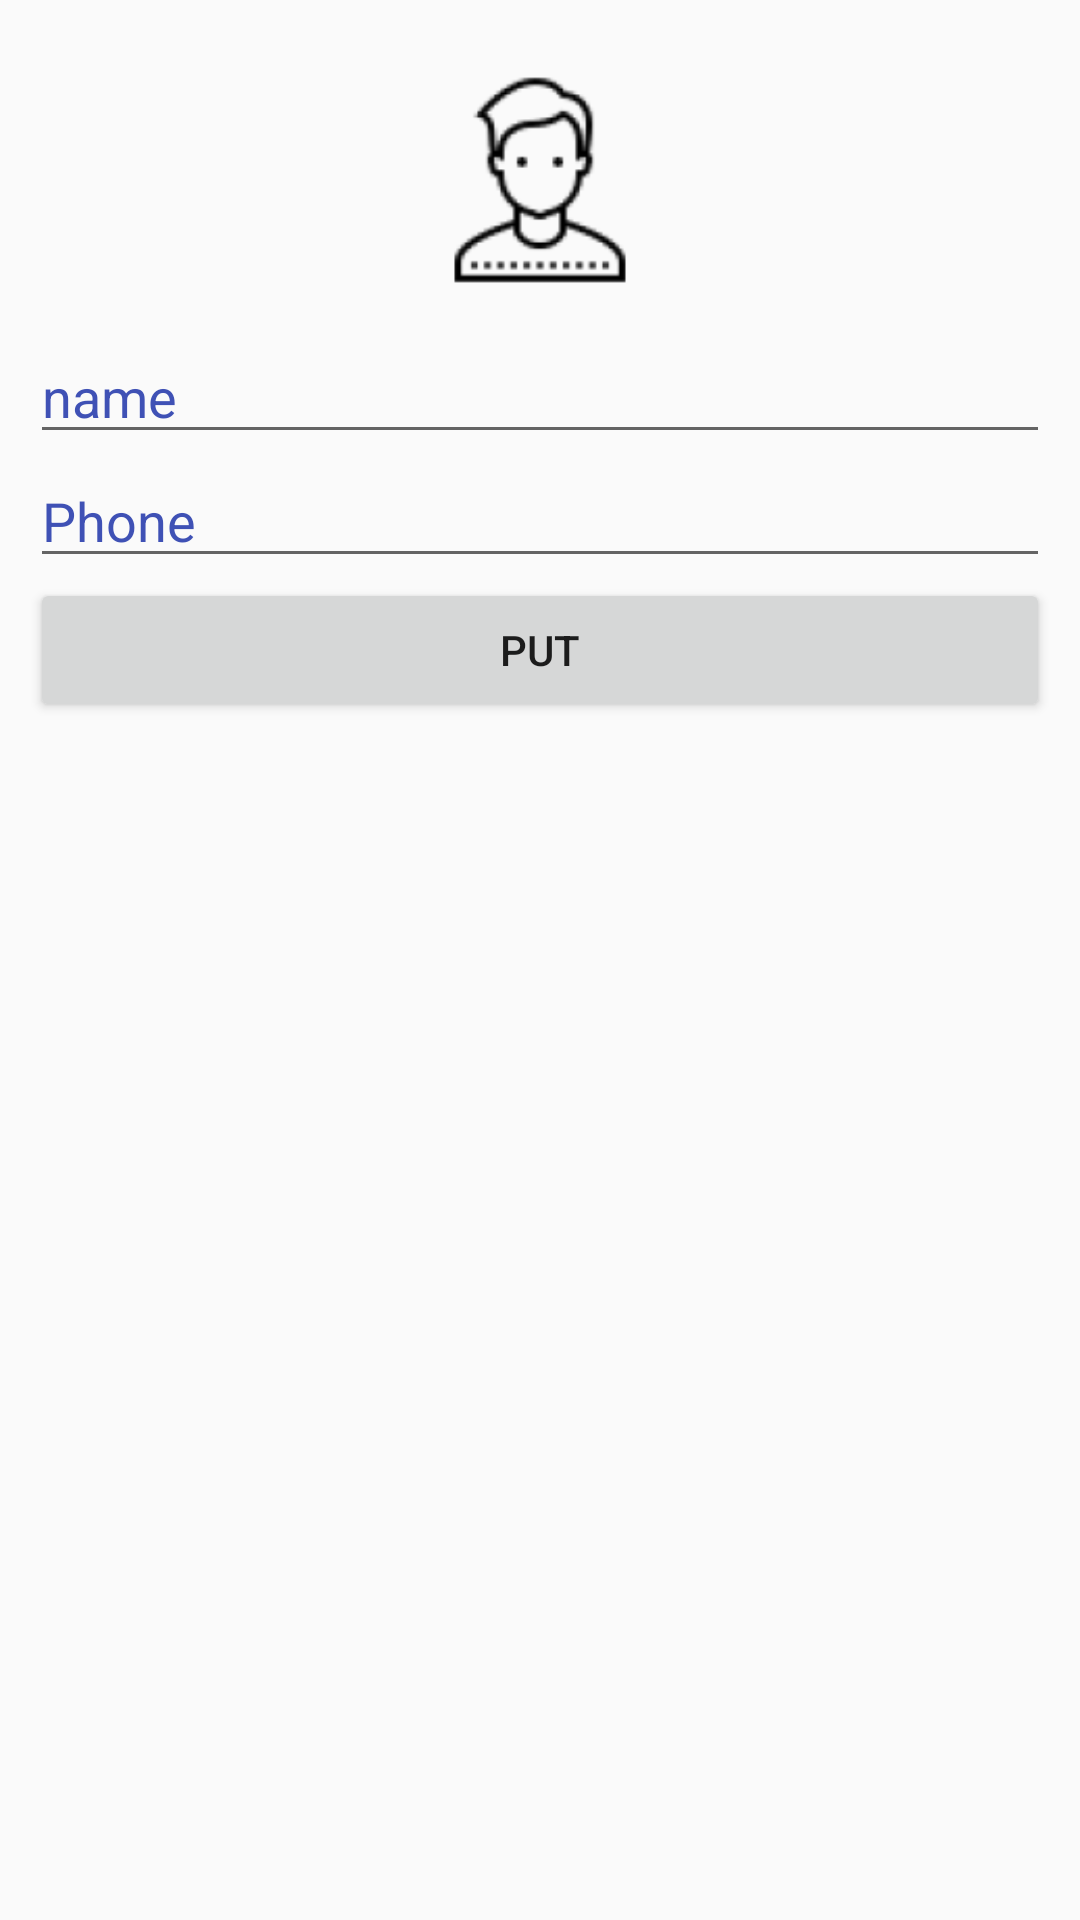

Screen size 1080w x 1920h. Icon name, then its box in pixels as (x1, y1, x2, y2):
proflie: (454, 77, 626, 283)
